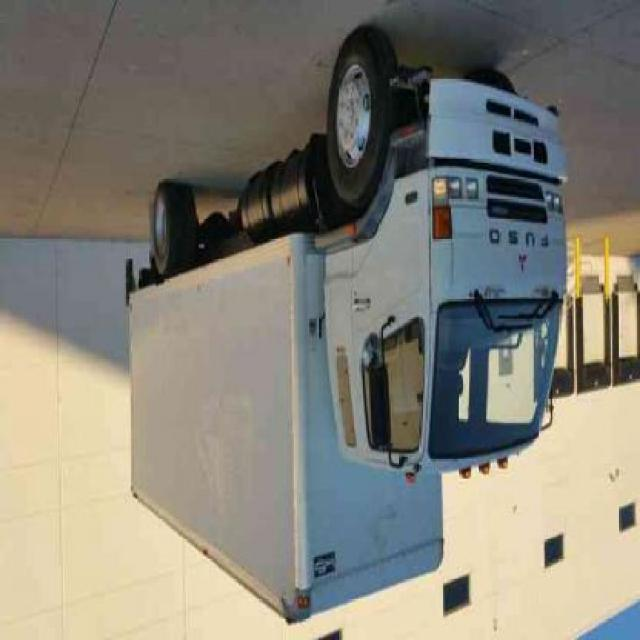truck: (127, 29, 572, 626)
